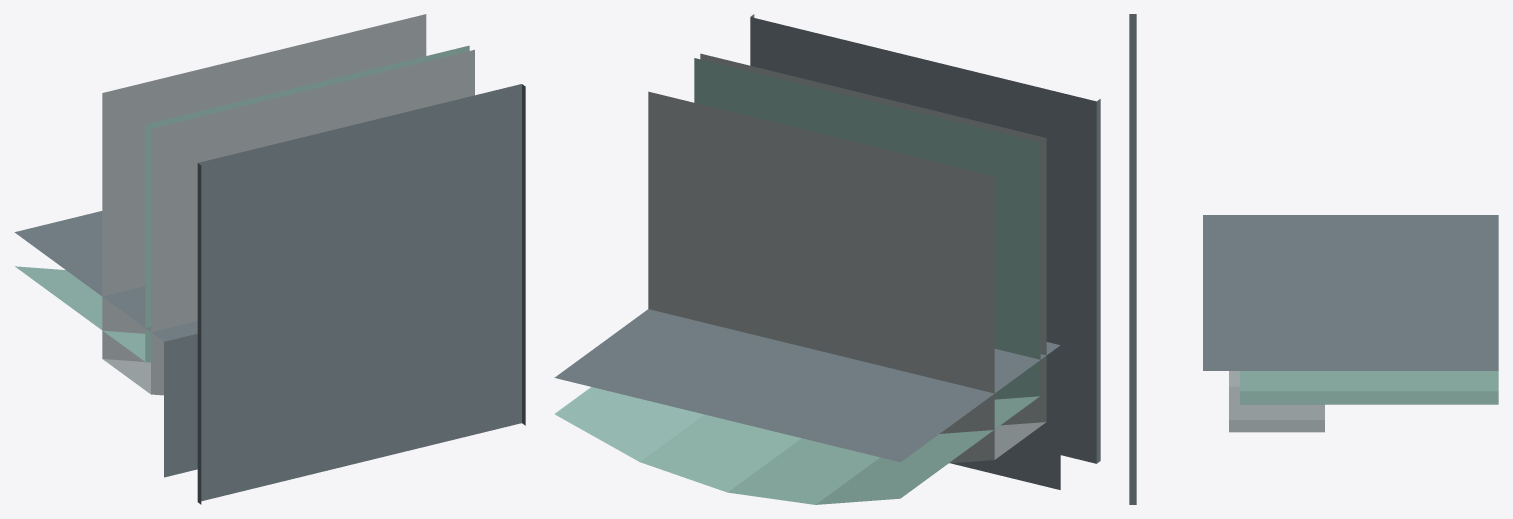
Rendered from cell_82.obj.
3 renders of one model, left to right at view 1: azimuth 30°, elevation 25°; view 2: azimuth 150°, elevation 25°; view 3: azimuth 270°, elevation 25°, orthographic. The views are drawn at different scales.
Size of the model in its own units: 1 by 1 by 1.
